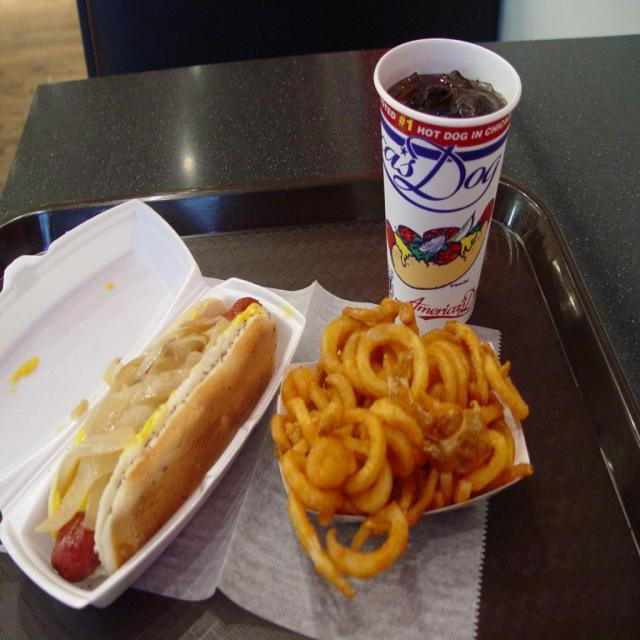Hot dog: (59, 277, 297, 592)
